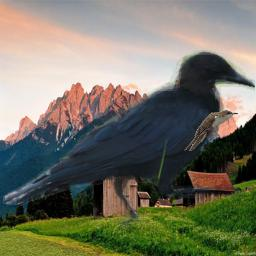Crow: (3, 50, 255, 229)
Cuckoo: (184, 110, 238, 151)
